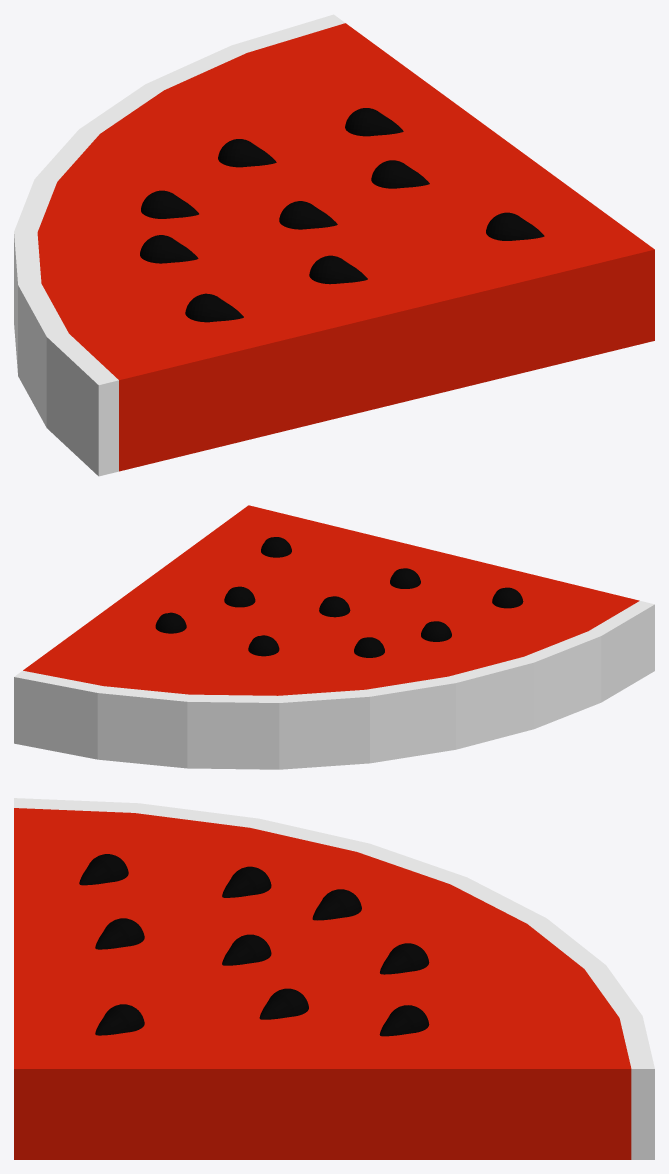
File: Castle (1).glb
3 views of the same model, one above another, from view 1: azimuth 30°, elevation 25°; view 2: azimuth 150°, elevation 25°; view 3: azimuth 270°, elevation 25° (orthographic). The views are drawn at different scales.
Visible parts, largest first — view 1: Circle.001, Sphere.020, Sphere.024, Sphere.026, Sphere.022, Sphere.018, Sphere.019, Sphere.023, Sphere.025, Sphere.021; view 2: Circle.001, Sphere.023, Sphere.018, Sphere.021, Sphere.024, Sphere.020, Sphere.026, Sphere.022, Sphere.025, Sphere.019; view 3: Circle.001, Sphere.025, Sphere.026, Sphere.020, Sphere.022, Sphere.018, Sphere.019, Sphere.023, Sphere.021, Sphere.024.
Part boxes in pixels (box(x1,y1,x2,y2)): Circle.001: box(14, 14, 654, 476); Sphere.020: box(279, 201, 337, 229); Sphere.024: box(371, 160, 429, 188); Sphere.026: box(486, 212, 544, 240); Sphere.022: box(141, 190, 198, 218); Sphere.018: box(185, 293, 243, 322); Sphere.019: box(140, 235, 198, 263); Sphere.023: box(345, 108, 403, 136); Sphere.025: box(309, 255, 367, 284); Sphere.021: box(218, 139, 276, 167); Circle.001: box(14, 505, 654, 769); Sphere.023: box(155, 612, 186, 633); Sphere.018: box(492, 587, 523, 608); Sphere.021: box(248, 635, 279, 656); Sphere.024: box(224, 586, 255, 607); Sphere.020: box(319, 596, 350, 617); Sphere.026: box(261, 537, 291, 557); Sphere.022: box(354, 637, 384, 657); Sphere.025: box(390, 568, 420, 588); Sphere.019: box(421, 621, 451, 641); Circle.001: box(14, 798, 654, 1159); Sphere.025: box(95, 918, 144, 949); Sphere.026: box(95, 1004, 144, 1035); Sphere.020: box(222, 934, 271, 965); Sphere.022: box(312, 889, 361, 920); Sphere.018: box(79, 854, 128, 885); Sphere.019: box(222, 866, 271, 897); Sphere.023: box(379, 1005, 429, 1036); Sphere.021: box(380, 943, 429, 974); Sphere.024: box(259, 988, 308, 1019).
Size of the model in its own units: 1 by 0.2169 by 1.
